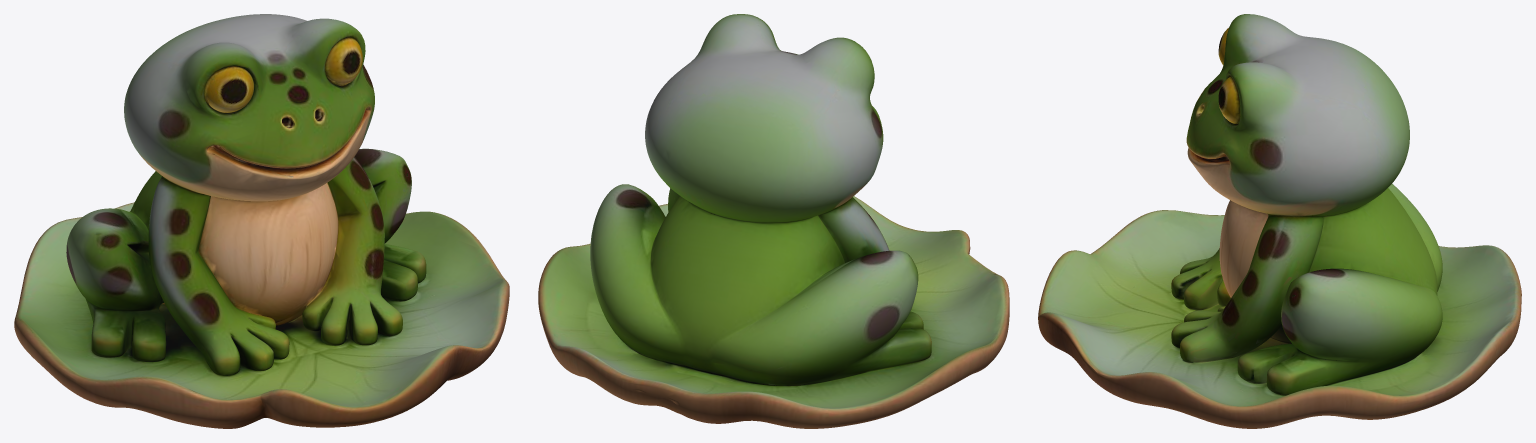
Rendered from frog.glb.
3 views of the same model, side by side, from view 1: azimuth 30°, elevation 25°; view 2: azimuth 150°, elevation 25°; view 3: azimuth 270°, elevation 25° (orthographic). The views are drawn at different scales.
Parts seen in each view (by area): view 1: node_0; view 2: node_0; view 3: node_0.
Boxes of the visible parts, x1=… form: node_0: x1=14, y1=14, x2=509, y2=428; node_0: x1=538, y1=14, x2=1009, y2=428; node_0: x1=1038, y1=14, x2=1521, y2=428.
Bounding box in the file's own units: 1.03 × 0.7112 × 1.03.
Materials: 1 (1 with a texture image).
